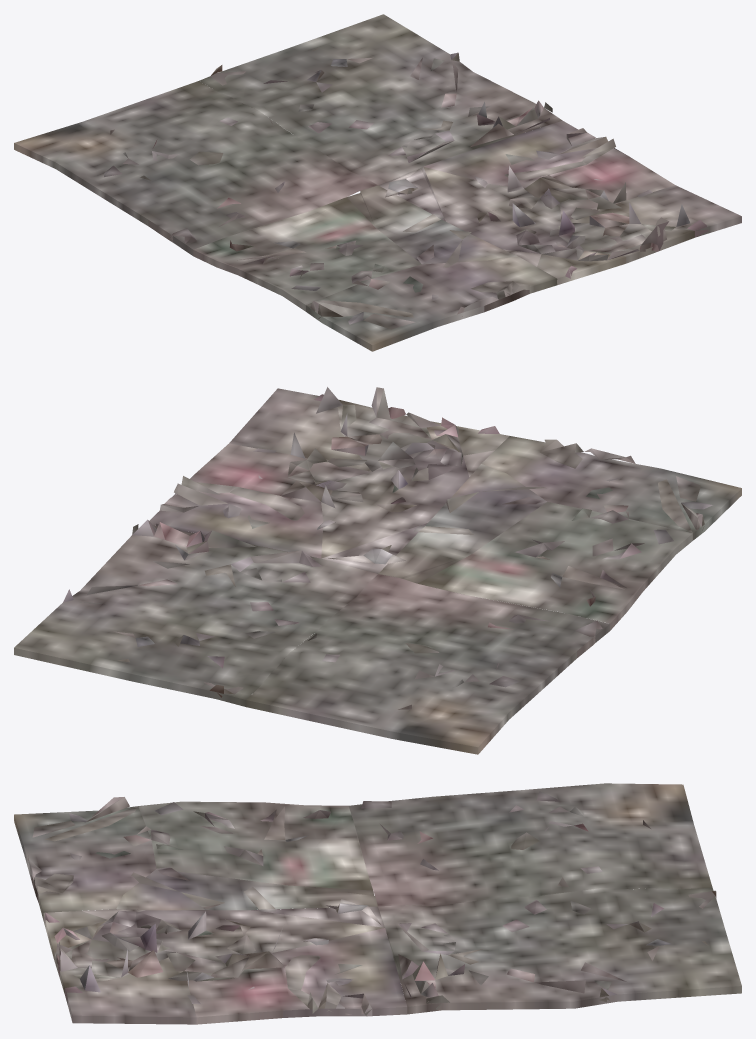
3 views of the same model, one above another, from view 1: azimuth 30°, elevation 25°; view 2: azimuth 150°, elevation 25°; view 3: azimuth 270°, elevation 25° (orthographic). The views are drawn at different scales.
Visible parts, largest first — view 1: Mesh_0; view 2: Mesh_0; view 3: Mesh_0.
Boxes of the visible parts, left/top/right/bottom form: Mesh_0: left=14, top=14, right=741, bottom=351; Mesh_0: left=14, top=387, right=741, bottom=754; Mesh_0: left=14, top=783, right=741, bottom=1024.
Size of the model in its own units: 1065 by 113 by 1318.
Materials: 1 (1 with a texture image).
